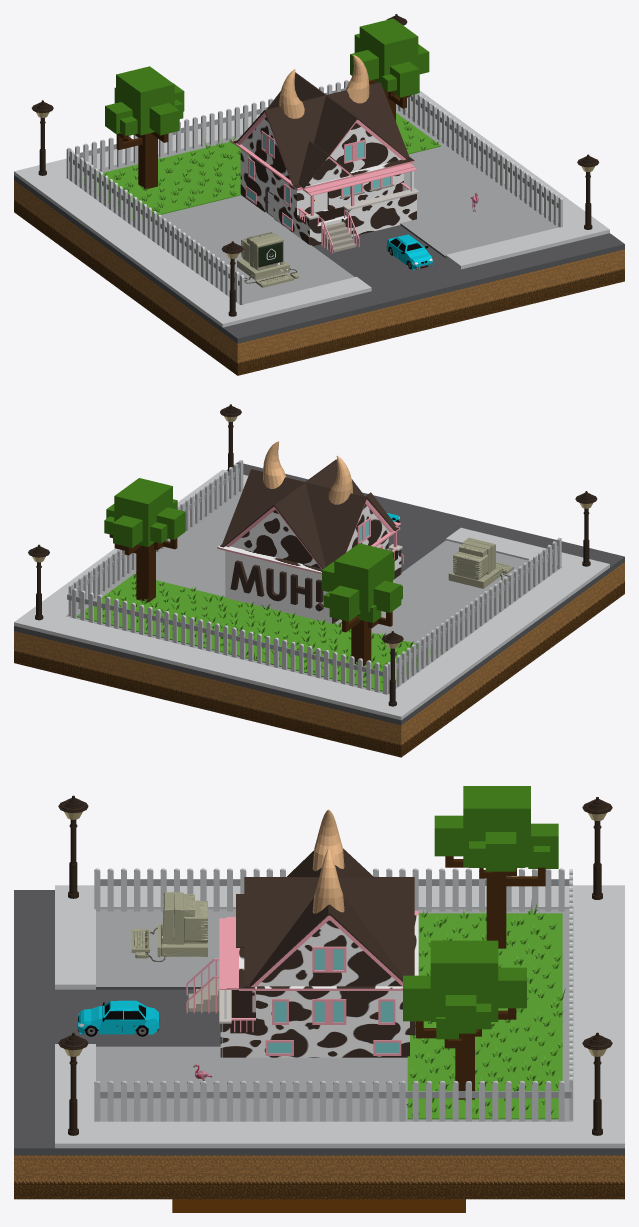
3 views of the same model, one above another, from view 1: azimuth 30°, elevation 25°; view 2: azimuth 150°, elevation 25°; view 3: azimuth 270°, elevation 25° (orthographic). The views are drawn at different scales.
Parts seen in each view (by area): view 1: Cube.004, Cube.1242, OBJRANDOM_RETRO_PC, VEHICLES_CAR; view 2: Cube.004, Cube.1242, OBJRANDOM_RETRO_PC; view 3: Cube.004, Cube.1242, UNDERGROUND_ART_PIECE_VAN_GOGH, OBJRANDOM_RETRO_PC, VEHICLES_CAR.
Boxes of the visible parts, x1,y1,x2,y2 form: Cube.004: [14, 14, 624, 375]; Cube.1242: [232, 54, 419, 253]; OBJRANDOM_RETRO_PC: [237, 232, 298, 287]; VEHICLES_CAR: [386, 234, 432, 269]; Cube.004: [14, 404, 624, 757]; Cube.1242: [217, 441, 403, 623]; OBJRANDOM_RETRO_PC: [448, 537, 513, 588]; Cube.004: [14, 786, 624, 1199]; Cube.1242: [186, 809, 418, 1057]; UNDERGROUND_ART_PIECE_VAN_GOGH: [172, 1199, 465, 1212]; OBJRANDOM_RETRO_PC: [131, 892, 207, 961]; VEHICLES_CAR: [77, 1000, 160, 1036].
Size of the model in its own units: 4000 by 1985 by 4000.
40 materials, 4 textured.
